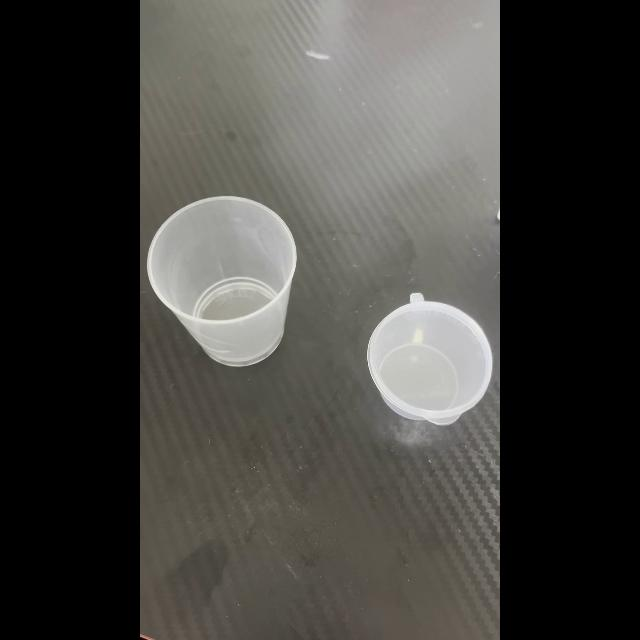clean: (152, 194, 296, 366), (364, 288, 496, 430)
